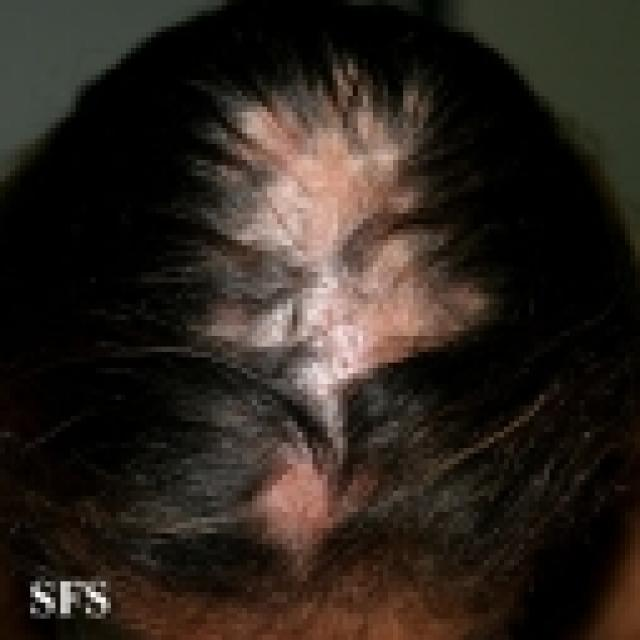lupus: (184, 156, 476, 560)
